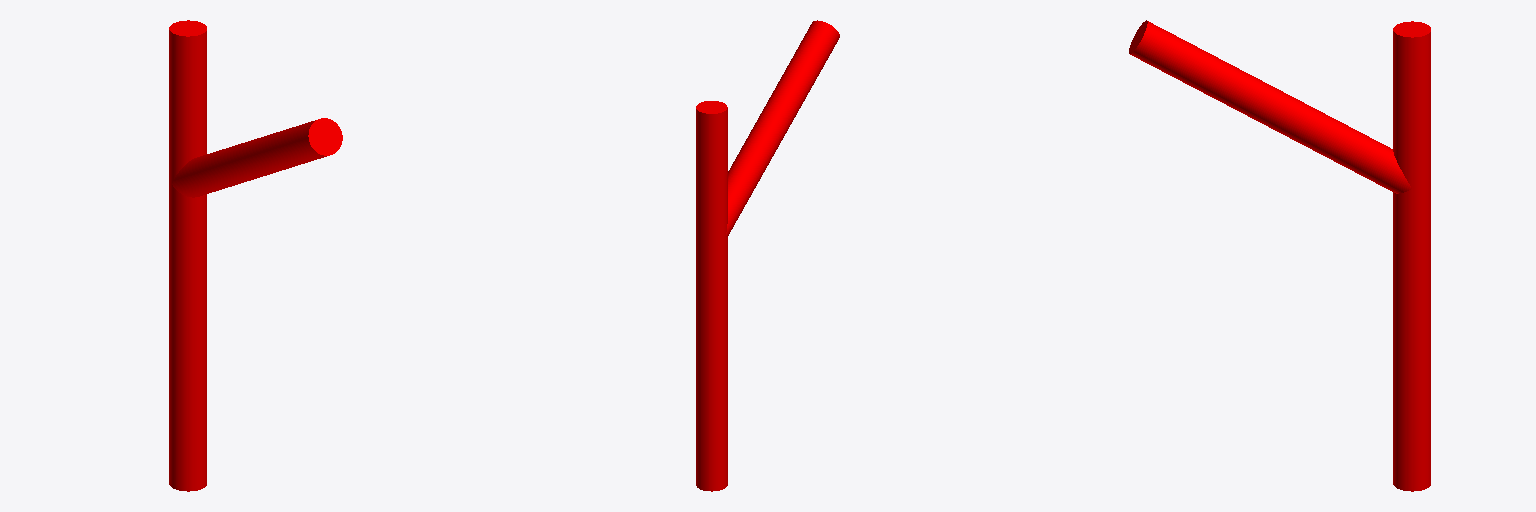
The robot description file, URDF, robot "tree.urdf":
<?xml version="1.0" ?>
<robot name="tree.urdf">
  <link name="baseLink">
    <inertial>
      <origin rpy="0 0 0" xyz="0 0 0"/>
       <mass value=".1"/>
       <inertia ixx="1" ixy="0" ixz="0" iyy="1" iyz="0" izz="1"/>
    </inertial>
    <contact>
      <lateral_friction value="1.0"/>
      <inertia_scaling value="3.0"/>
    </contact>
    <visual>
      <origin rpy="0 0 0" xyz="0 0 0"/>
      <geometry>
        <mesh filename="17.stl" scale="1 1 1" />
      </geometry>
      <material name="red">
        <color rgba="1 0 0 1"/>
      </material>
    </visual>
    <collision>
      <origin rpy="0 0 0" xyz="0 0 0"/>
      <geometry>
        <mesh filename="17_convex.obj" scale="1 1 1" />
      </geometry>
    </collision>
  </link>
</robot>

--- What the picture shows (computed from the rendered views, not written in the file) ---
The picture shows the robot from 3 angles, left to right: view 1: azimuth 30°, elevation 25°; view 2: azimuth 150°, elevation 25°; view 3: azimuth 270°, elevation 25°; orthographic projection.
Robot: tree.urdf — 1 links, 0 joints (none); root link baseLink; default pose: every joint at zero.
Visible links, largest first — view 1: baseLink; view 2: baseLink; view 3: baseLink.
Link boxes in pixels (bbox=[...]): baseLink: bbox=[169, 20, 342, 491]; baseLink: bbox=[696, 20, 839, 491]; baseLink: bbox=[1129, 20, 1430, 491].
Bounding box of the posed robot: 0.0189 × 0.151 × 0.2539 m (x, y, z).
Meshes: 1 distinct files referenced, 1 mesh visuals loaded (1 binary STL).